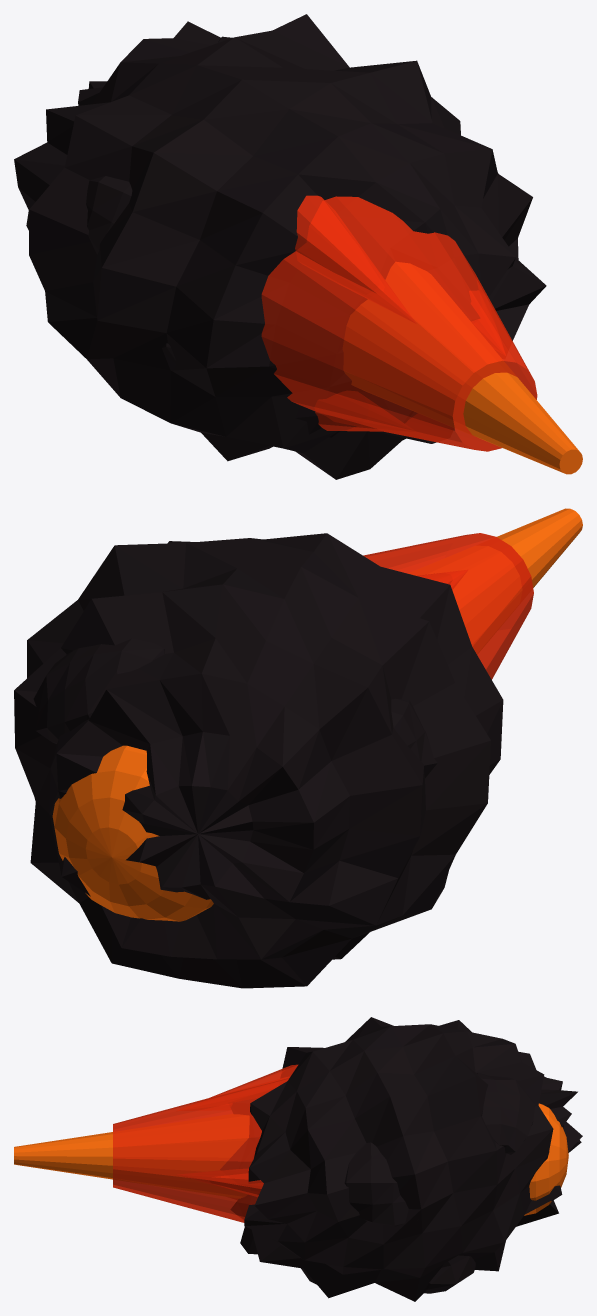
Rendered from MeteorShower_Meteor.obj.
The picture shows the model from 3 angles, top to bottom: view 1: azimuth 30°, elevation 25°; view 2: azimuth 150°, elevation 25°; view 3: azimuth 270°, elevation 25°; orthographic projection. The views are drawn at different scales.
Parts seen in each view (by area): view 1: MeteorCore, FlameOuter, FlameInner, FlameWisp_2, FlameWisp_3, RockChunk_2, FlameWisp_1, RockChunk_4; view 2: MeteorCore, ImpactCore, FlameOuter, FlameInner, RockChunk_5, RockChunk_2; view 3: MeteorCore, FlameOuter, FlameInner, RockChunk_1, RockChunk_5, ImpactCore, FlameWisp_2, FlameWisp_1, RockChunk_3.
Boxes of the visible parts, x1,y1,x2,y2 form: MeteorCore: (14, 14, 546, 479); FlameOuter: (261, 196, 537, 451); FlameInner: (343, 262, 582, 474); FlameWisp_2: (295, 195, 414, 322); FlameWisp_3: (315, 391, 415, 431); RockChunk_2: (86, 176, 132, 254); FlameWisp_1: (469, 291, 505, 355); RockChunk_4: (295, 405, 340, 439); MeteorCore: (14, 533, 503, 988); ImpactCore: (52, 745, 213, 921); FlameOuter: (363, 533, 533, 679); FlameInner: (409, 508, 582, 654); RockChunk_5: (33, 638, 164, 743); RockChunk_2: (391, 698, 437, 778); MeteorCore: (220, 1017, 582, 1301); FlameOuter: (113, 1077, 289, 1222); FlameInner: (14, 1114, 248, 1197); RockChunk_1: (344, 1142, 408, 1226); RockChunk_5: (477, 1073, 534, 1154); ImpactCore: (524, 1103, 568, 1215); FlameWisp_2: (178, 1064, 298, 1110); FlameWisp_1: (180, 1169, 263, 1196); RockChunk_3: (424, 1255, 475, 1293).
Size of the model in its own units: 1.72 by 1.54 by 3.21.
